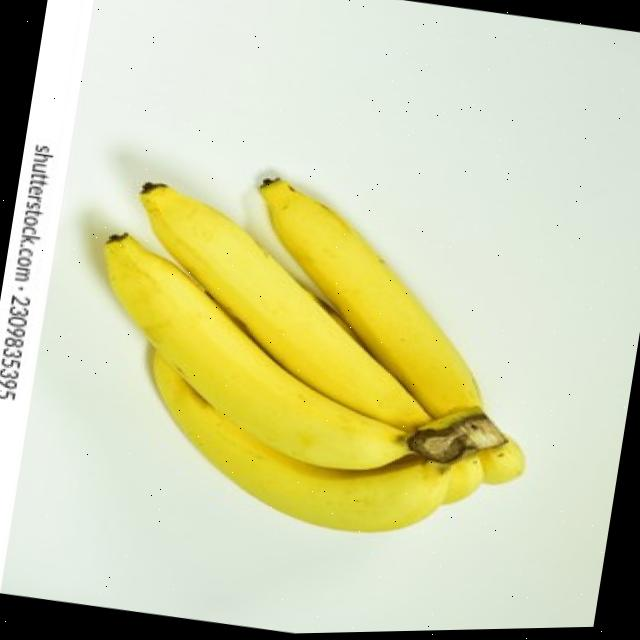Banana: (141, 185, 430, 433), (105, 237, 411, 471), (153, 354, 446, 534), (260, 181, 478, 421)
